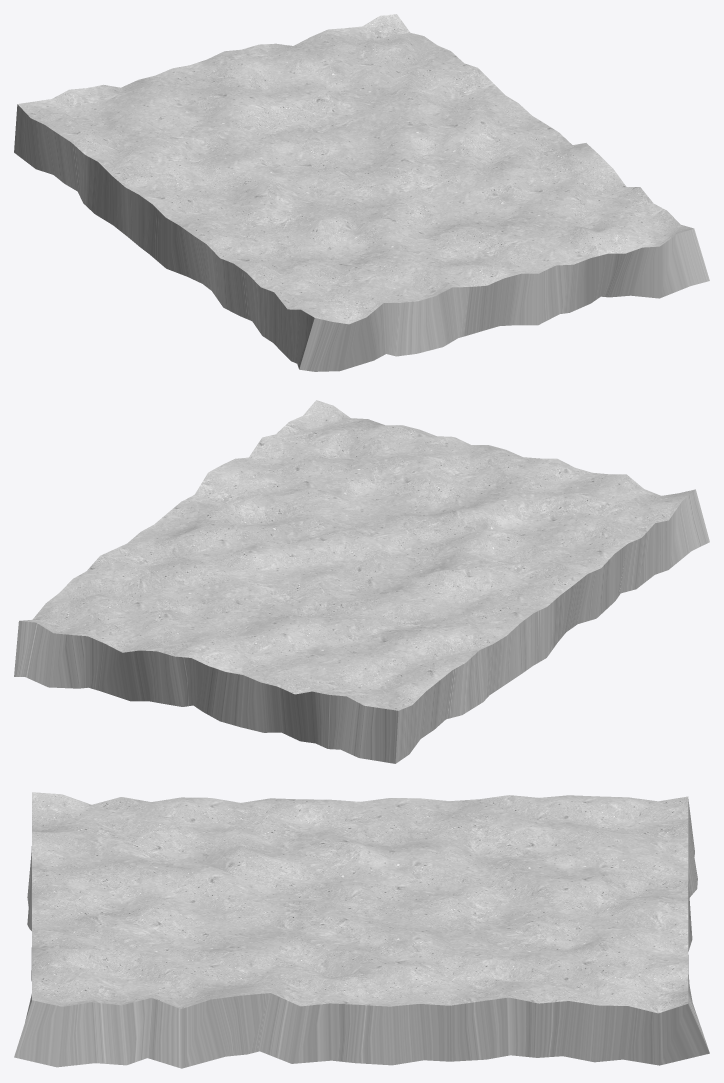
File: OceanFloor.fbx
3 renders of one model, top to bottom at view 1: azimuth 30°, elevation 25°; view 2: azimuth 150°, elevation 25°; view 3: azimuth 270°, elevation 25°, orthographic. The views are drawn at different scales.
Visible parts, largest first — view 1: Plane; view 2: Plane; view 3: Plane.
Boxes of the visible parts, x1,y1,x2,y2 form: Plane: (14,14,709,371); Plane: (14,400,709,763); Plane: (14,792,709,1068).
Size of the model in its own units: 3378 by 418 by 2507.
